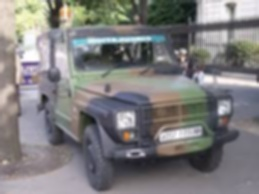license_plate: (159, 127, 206, 142)
